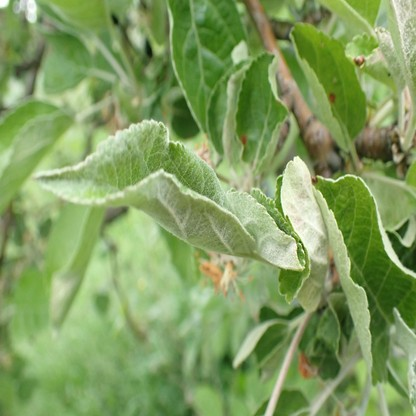frogeye_leaf_spot: (329, 92, 335, 105), (241, 133, 247, 145)
powdery_mildew: (32, 118, 303, 270), (313, 186, 373, 374), (281, 157, 329, 311)
